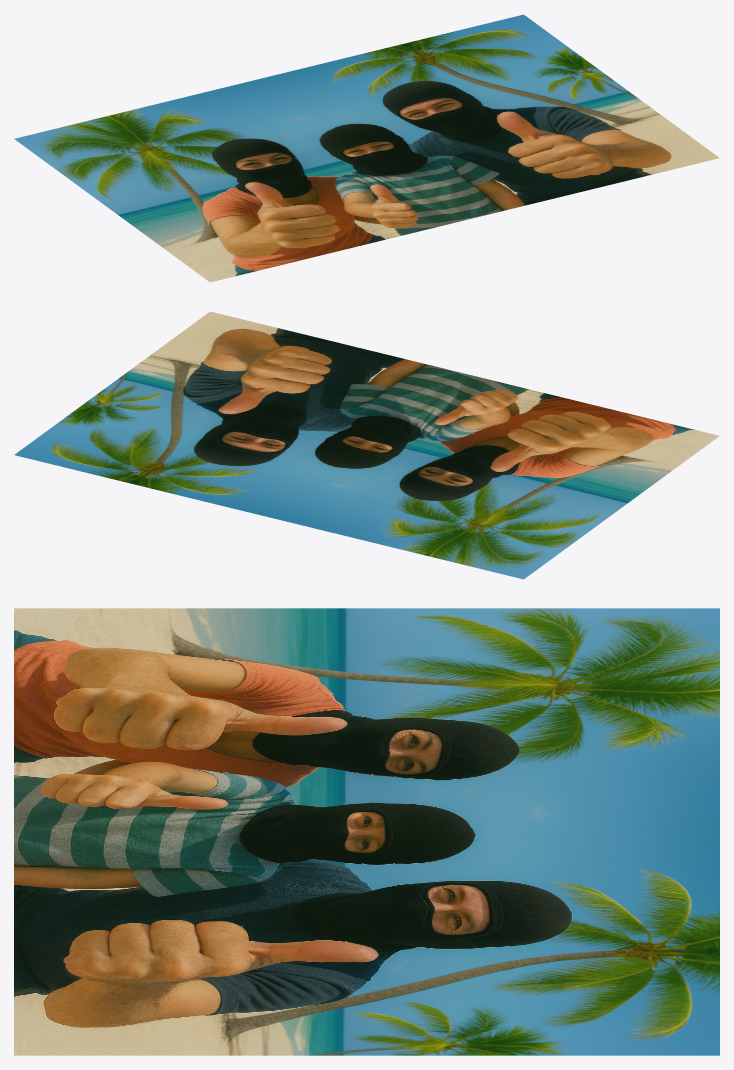
The model's file is photo.glb.
3 views of the same model, one above another, from view 1: azimuth 30°, elevation 25°; view 2: azimuth 150°, elevation 25°; view 3: azimuth 270°, elevation 25° (orthographic). The views are drawn at different scales.
Size of the model in its own units: 0.4153 by 1.03e-06 by 0.2768.
Materials: 1 (1 with a texture image).
